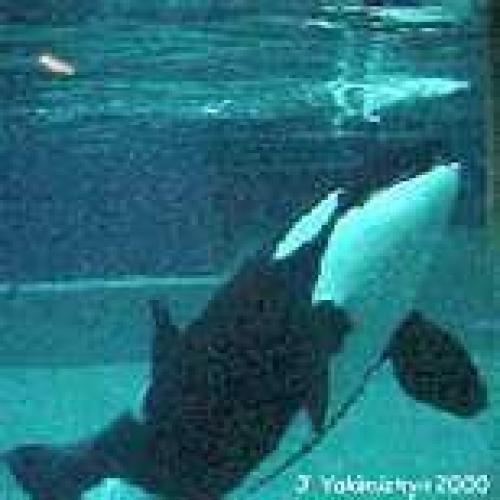killer_whale-endangered: (59, 141, 478, 491)
